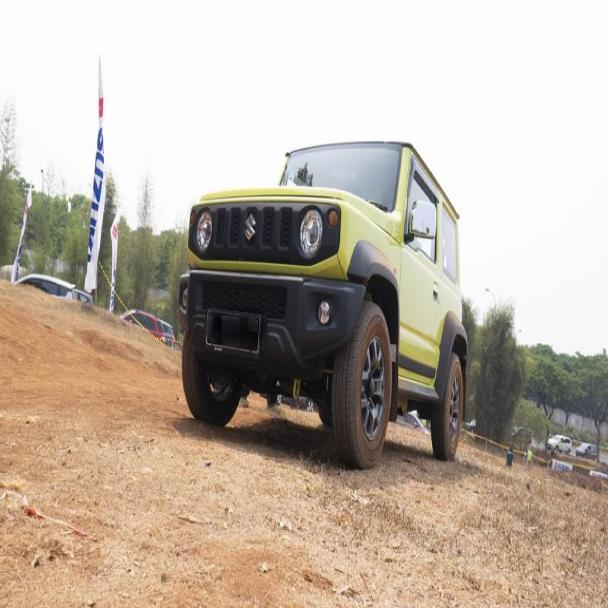Mobil: (181, 136, 467, 470)
